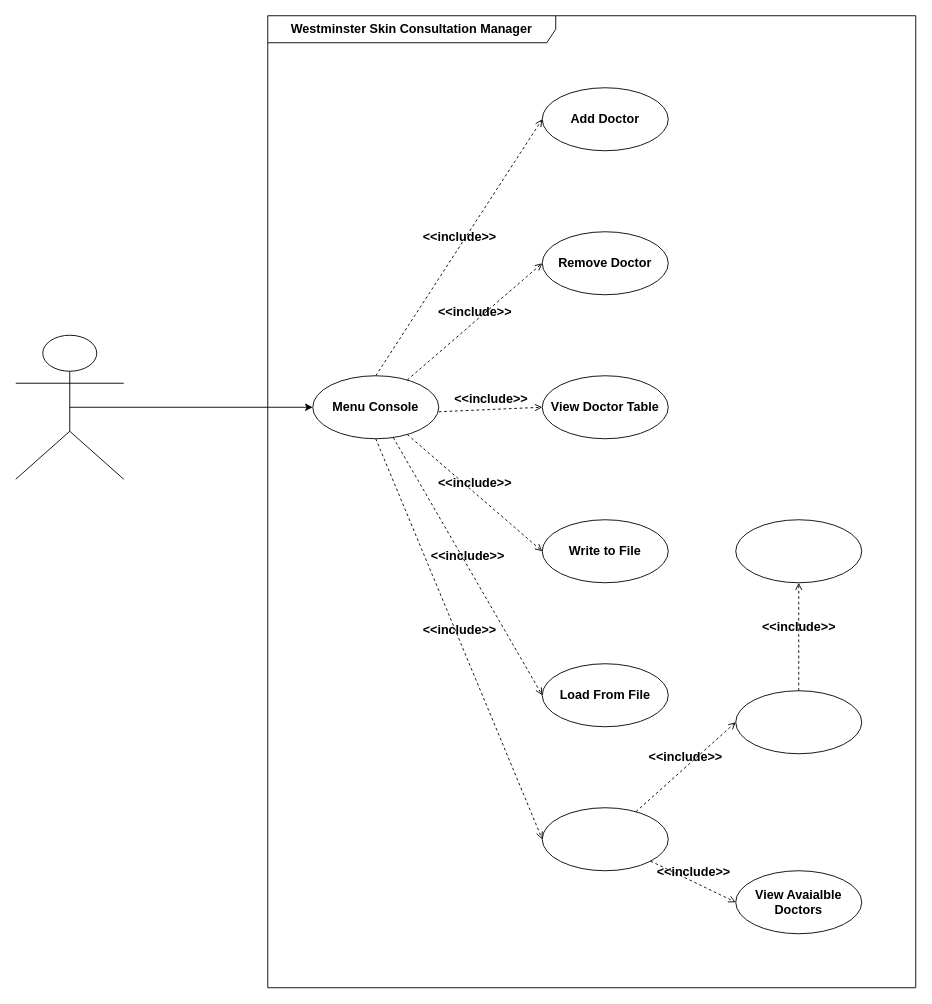
Image size: 932x1004. Some labels were removed from this diagram. The box of each missing label's shape, as (x1, y1, x2, y2) in pixels:
Add Patient Details: (735, 690, 862, 754)
Load GUI: (541, 807, 668, 871)
Schedule Consultation: (735, 519, 862, 583)
User: (15, 334, 124, 479)
